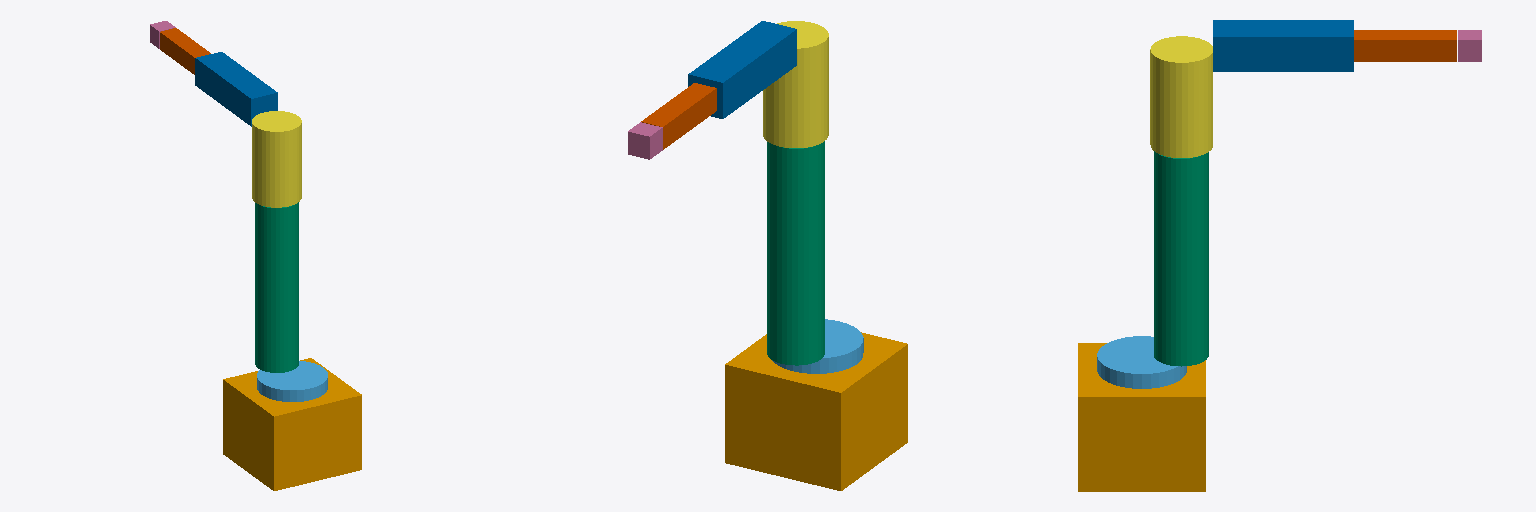
robot.urdf — robot_arm:
<robot name="robot_arm">
    <link name="base_link">
        <visual>
            <origin xyz="0 0 0.0225" rpy="0 0 0"/>
            <geometry>
                <box size="0.1 0.1 0.081"/>
            </geometry>
        </visual>
        <inertial>
            <mass value="1.0"/>
            <origin xyz="0 0 0"/>
            <inertia ixx="0.1" iyy="0.1" izz="0.1"/>
        </inertial>
    </link>

    <link name="base_rot">
        <visual>
            <geometry>
                <cylinder length="0.0135" radius="0.035" />
            </geometry>
        </visual>
        <inertial>
            <mass value="1.0"/>
            <origin xyz="0 0 0"/>
            <inertia ixx="0.1" iyy="0.1" izz="0.1"/>
        </inertial>
    </link>

    <joint name="base_joint" type="revolute">
        <parent link="base_link"/>
        <child link="base_rot"/>
        <origin xyz="0 0 0.069" rpy="0 0 0" />
        <axis xyz="0 0 -1"/>
        <limit lower="-3.14" upper="3.14" />
    </joint>

    <link name="arm1">
        <visual>
            <origin xyz="0 0.0305 0.069" rpy="0 0 0" />
            <geometry>
                <cylinder length="0.178" radius="0.0215"/>
            </geometry>
        </visual>
        <inertial>
            <mass value="1.0"/>
            <origin xyz="0 0 0.119"/>
            <inertia ixx="0.1" iyy="0.1" izz="0.1"/>
        </inertial>
    </link>

    <joint name="shoulder_joint" type="revolute">
        <parent link="base_rot"/>
        <child link="arm1"/>
        <origin xyz="0 0 0.027" rpy="0 0 0" />
        <axis xyz="1 0 0"/>
        <limit lower="-0.09" upper="1.57" />
    </joint>

    <link name="arm2">
        <visual>
            <origin xyz="0 0.029 0.046" rpy="0 0 0" />
            <geometry>
                <cylinder length="0.082" radius="0.0245"/>
            </geometry>
        </visual>
        <inertial>
            <mass value="1.0"/>
            <origin xyz="0 0 0"/>
            <inertia ixx="0.1" iyy="0.1" izz="0.1"/>
        </inertial>
    </link>

    <link name="tilt">
        <visual>
            <origin xyz="0 0 0" rpy="0 0 0" />
            <geometry>
                <box size="0.03 0.03 0.11" />
            </geometry>
        </visual>
        <inertial>
            <mass value="1.0"/>
            <origin xyz="0 0 0.0225"/>
            <inertia ixx="0.1" iyy="0.1" izz="0.1"/>
        </inertial>
    </link>

    <link name="top">
        <visual>
            <origin xyz="0 0 0.04" rpy="0 0 0" />
            <geometry>
                <box size="0.019 0.019 0.080" />
            </geometry>
        </visual>
        <inertial>
            <mass value="1.0"/>
            <origin xyz="0 0 0.02"/>
            <inertia ixx="0.1" iyy="0.1" izz="0.1"/>
        </inertial>
    </link>

    <link name="gripper">
        <visual>
            <origin xyz="0 0 0" rpy="0 0 0" />
            <geometry>
                <box size="0.019 0.019 0.019" />
            </geometry>
        </visual>
        <inertial>
            <mass value="1.0"/>
            <origin xyz="0 0 0.005"/>
            <inertia ixx="0.1" iyy="0.1" izz="0.1"/>
        </inertial>
    </link>

    <joint name="elbow_joint" type="revolute">
        <parent link="arm1"/>
        <child link="arm2"/>
        <origin xyz="0 0.06 0.155" rpy="0 0 3.14" />
        <axis xyz="1 0 0"/>
        <limit lower="0" upper="3.14" />
    </joint>
    

    <joint name="rot_joint" type="revolute">
        <parent link="arm2"/>
        <child link="tilt"/>
        <origin xyz="0 -0.05 0.09" rpy="1.57 0 0" />
        <axis xyz="0 0 -1"/>
        <limit lower="-3.14" upper="3.14" />
    </joint>

    <joint name="tilt_joint" type="revolute">
        <parent link="tilt"/>
        <child link="top"/>
        <origin xyz="0 0 0.055" rpy="0 0 0" />
        <axis xyz="-1 0 0"/>
        <limit lower="-1.57" upper="0" />
    </joint>

    <joint name="rot2_joint" type="revolute">
        <parent link="top"/>
        <child link="gripper"/>
        <origin xyz="0 0 0.09" rpy="0 0 0" />
        <axis xyz="0 0 1"/>
        <limit lower="-3.14" upper="3.14" />
    </joint>
</robot>

--- What the picture shows (computed from the rendered views, not written in the file) ---
3 views of the same robot in one strip: view 1: azimuth 30°, elevation 25°; view 2: azimuth 150°, elevation 25°; view 3: azimuth 270°, elevation 25° (orthographic).
Model robot_arm with 7 links and 6 joints (6 revolute), rooted at base_link, posed all joints at 0.
Links seen in each view (by area): view 1: base_link, arm1, arm2, tilt, base_rot, top; view 2: base_link, arm1, arm2, tilt, top, base_rot, gripper; view 3: base_link, arm1, tilt, arm2, top, base_rot, gripper.
Boxes of the visible links, x1,y1,x2,y2 form: base_link: (223, 358, 361, 490); arm1: (255, 202, 298, 372); arm2: (252, 111, 301, 207); tilt: (195, 52, 277, 126); base_rot: (257, 361, 327, 401); top: (160, 28, 210, 74); base_link: (725, 332, 907, 490); arm1: (767, 141, 824, 365); arm2: (763, 21, 828, 147); tilt: (688, 21, 796, 118); top: (641, 83, 716, 149); base_rot: (772, 319, 863, 373); gripper: (628, 122, 662, 159); base_link: (1078, 343, 1205, 491); arm1: (1154, 151, 1208, 366); tilt: (1213, 20, 1353, 71); arm2: (1150, 36, 1212, 157); top: (1354, 30, 1456, 61); base_rot: (1097, 336, 1186, 388); gripper: (1458, 30, 1481, 61).
Size in the robot's own frame: 0.1 by 0.3145 by 0.374 metres.
Geometry: primitives only (box / cylinder / sphere), no mesh files.
